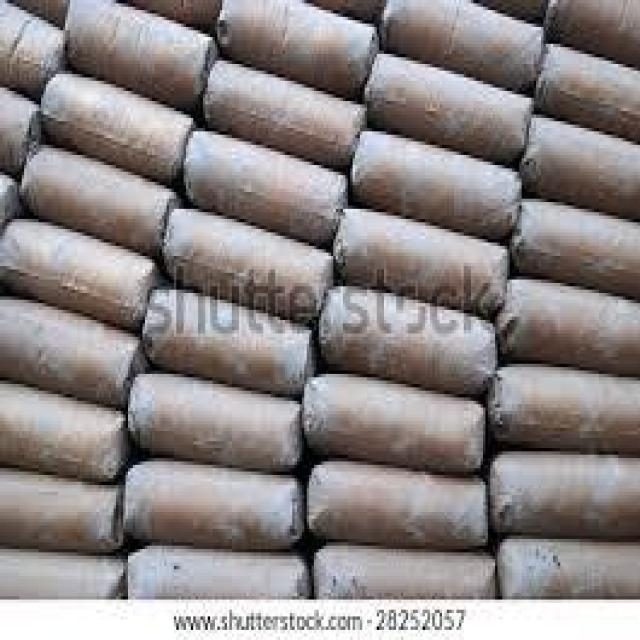gunny_bag: (163, 205, 333, 320), (354, 125, 519, 239), (318, 288, 498, 392), (203, 56, 367, 170), (185, 130, 348, 243), (140, 293, 315, 397), (306, 371, 485, 472), (332, 209, 507, 312), (42, 69, 196, 184), (306, 465, 494, 556), (4, 221, 162, 328), (21, 147, 179, 253), (365, 56, 537, 153), (127, 374, 306, 467), (0, 291, 144, 404), (124, 461, 303, 546), (219, 0, 380, 94), (496, 278, 640, 371), (0, 382, 126, 483), (385, 2, 552, 77), (70, 3, 206, 94), (495, 369, 640, 453), (487, 458, 640, 536), (522, 120, 640, 217), (513, 195, 640, 285), (127, 546, 314, 603), (0, 473, 126, 554), (320, 546, 498, 601), (533, 44, 640, 133), (502, 541, 635, 601), (0, 3, 69, 96)
